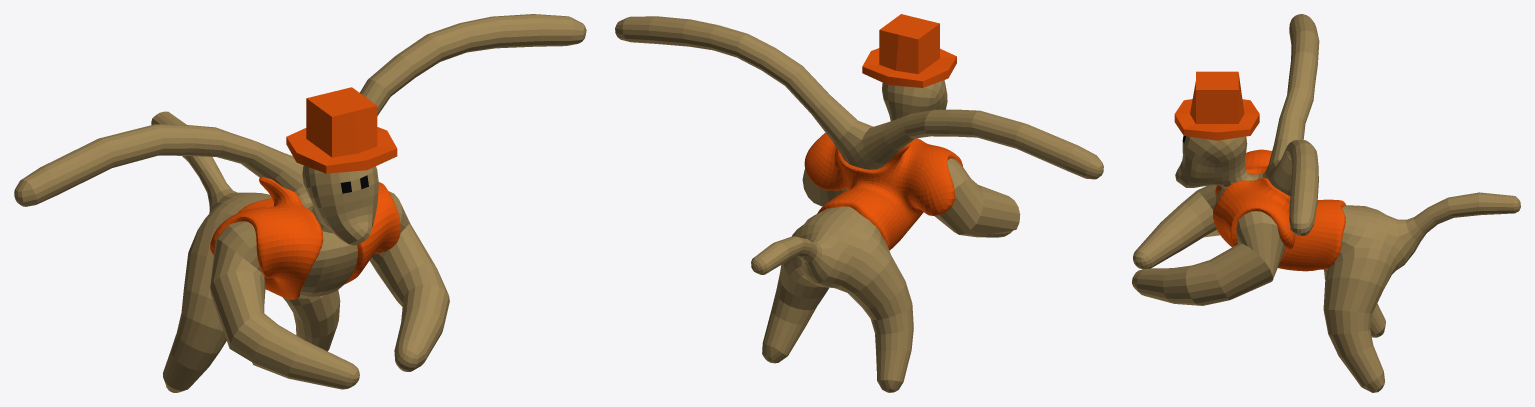
The model's file is MonkeyPose4.fbx.
3 renders of one model, left to right at view 1: azimuth 30°, elevation 25°; view 2: azimuth 150°, elevation 25°; view 3: azimuth 270°, elevation 25°, orthographic. The views are drawn at different scales.
Visible parts, largest first — view 1: MonkeyV2_1_Group55567, vest_Group43998, pCube4; view 2: MonkeyV2_1_Group55567, vest_Group43998, pCube4; view 3: MonkeyV2_1_Group55567, vest_Group43998, pCube4.
Part boxes in pixels (bbox=[...]): MonkeyV2_1_Group55567: bbox=[14, 14, 586, 392]; vest_Group43998: bbox=[210, 177, 400, 299]; pCube4: bbox=[286, 87, 397, 173]; MonkeyV2_1_Group55567: bbox=[615, 16, 1103, 392]; vest_Group43998: bbox=[804, 132, 962, 250]; pCube4: bbox=[862, 14, 956, 87]; MonkeyV2_1_Group55567: bbox=[1132, 14, 1520, 392]; vest_Group43998: bbox=[1213, 149, 1345, 271]; pCube4: bbox=[1174, 71, 1259, 140].
Size of the model in its own units: 11.9 by 6.81 by 8.42.
